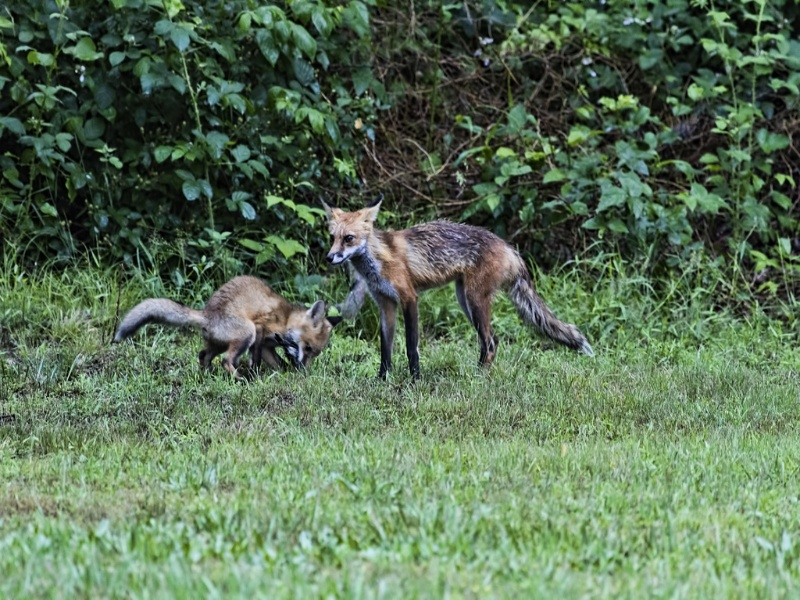fox: (319, 199, 603, 389), (111, 276, 335, 385)
